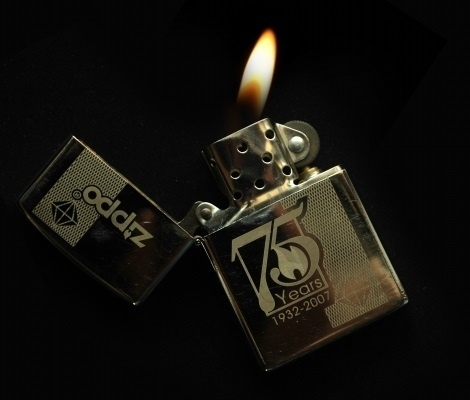Fire: (236, 26, 276, 114)
